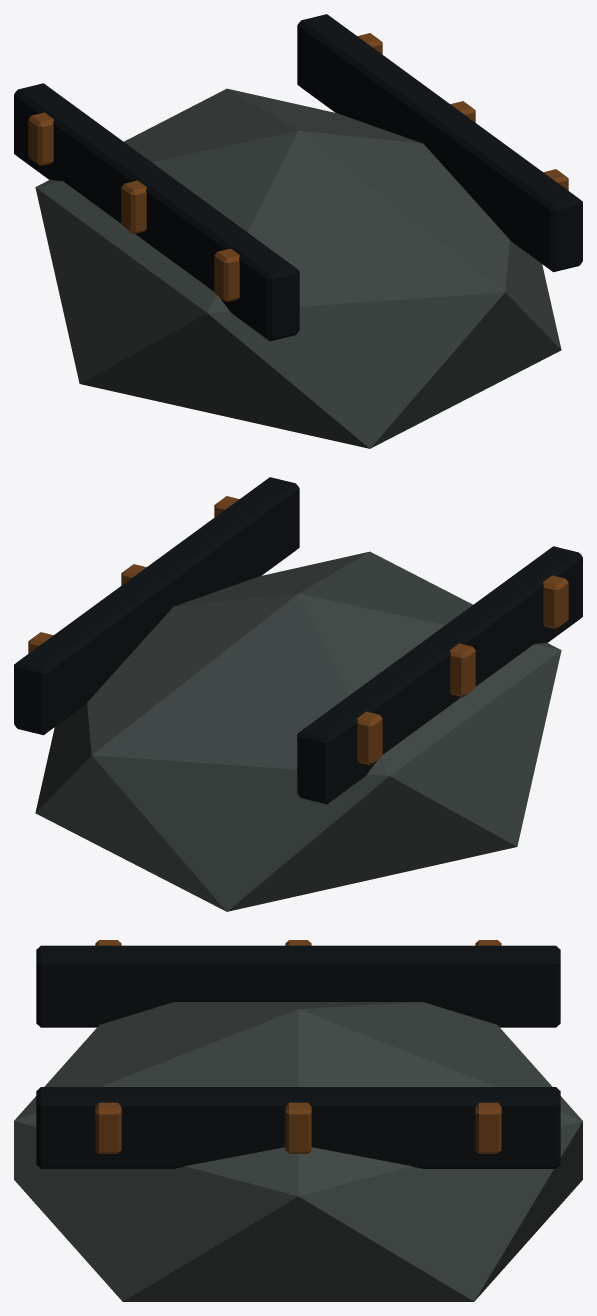
Rendered from cliff-base.glb.
The picture shows the model from 3 angles, top to bottom: view 1: azimuth 30°, elevation 25°; view 2: azimuth 150°, elevation 25°; view 3: azimuth 270°, elevation 25°; orthographic projection. The views are drawn at different scales.
Parts seen in each view (by area): view 1: cliff-base; view 2: cliff-base; view 3: cliff-base.
Part boxes in pixels (bbox=[...]): cliff-base: bbox=[14, 14, 582, 448]; cliff-base: bbox=[14, 477, 582, 911]; cliff-base: bbox=[14, 940, 582, 1301].
Size of the model in its own units: 6.8 by 4.1 by 7.49.
1 material, 1 textured.
